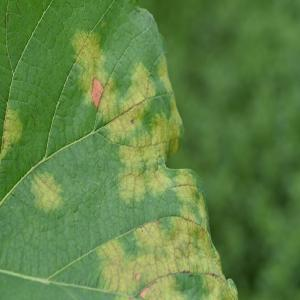Folha: (0, 0, 239, 299)
Fungo: (92, 215, 238, 300), (98, 61, 157, 137), (115, 138, 169, 198), (69, 27, 108, 109), (170, 167, 208, 216), (154, 109, 184, 165), (29, 170, 65, 214), (0, 106, 24, 166), (70, 27, 102, 62), (158, 55, 179, 108), (90, 76, 104, 108), (226, 276, 238, 298), (135, 272, 140, 282), (130, 118, 134, 126)
